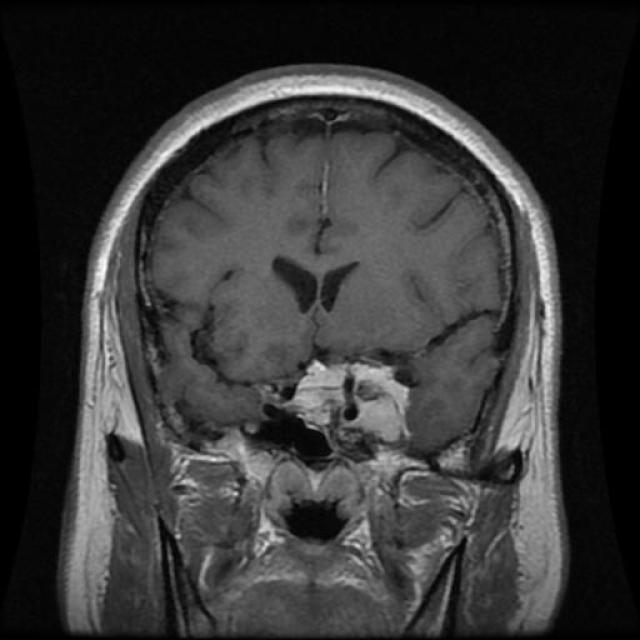meningioma: (295, 364, 409, 442)
